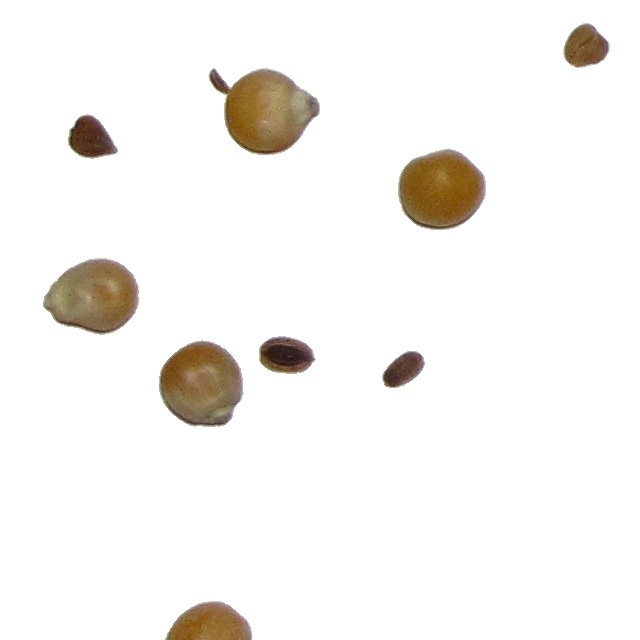buckwheat: (67, 113, 119, 160), (258, 335, 317, 375), (562, 22, 611, 69), (381, 350, 426, 389)
mais: (207, 67, 321, 156), (158, 339, 245, 428), (42, 257, 140, 336), (397, 147, 487, 231), (162, 600, 254, 640)
